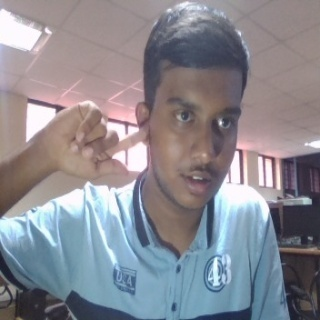Deaf: (34, 99, 150, 184)
Face: (133, 1, 252, 216)
